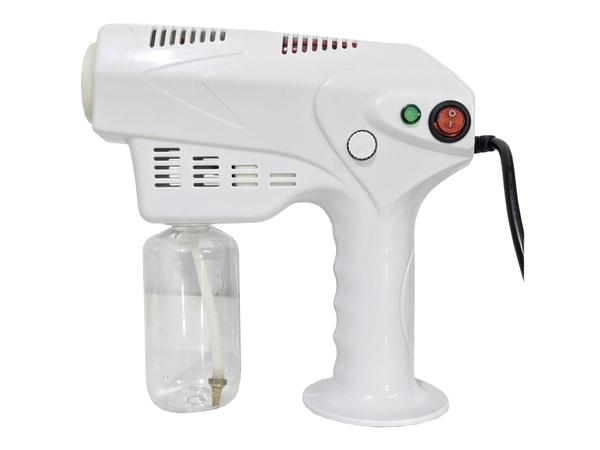Arma Falsa: (78, 17, 485, 422)
